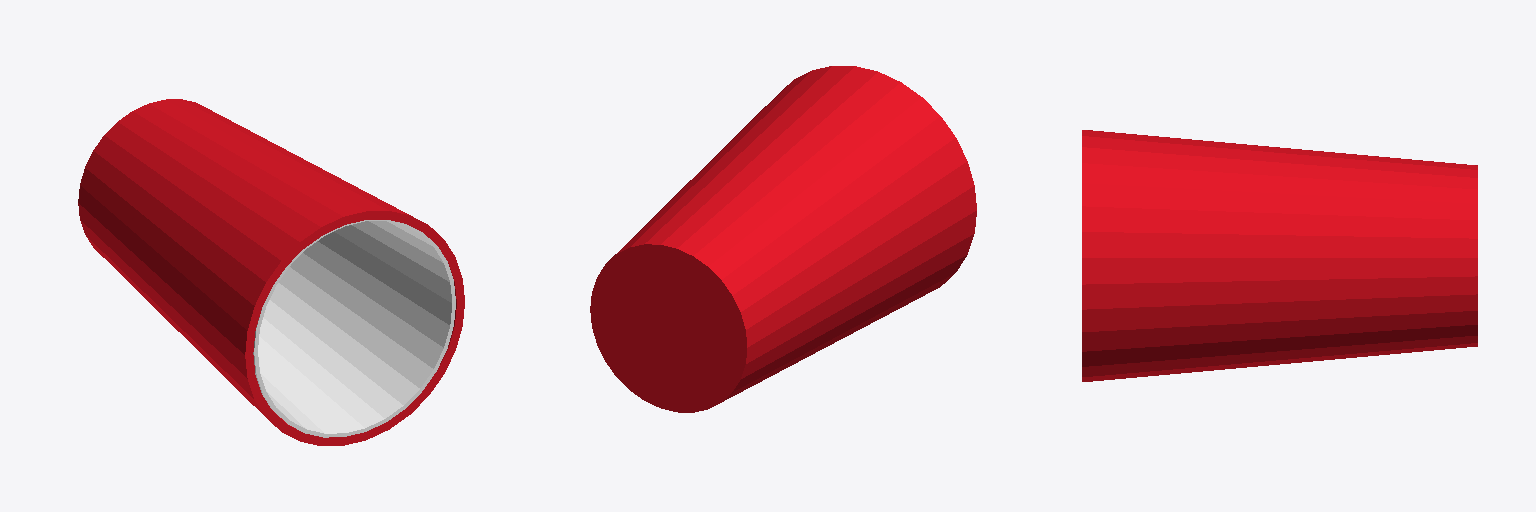
File: tinker.obj
The picture shows the model from 3 angles: view 1: azimuth 30°, elevation 25°; view 2: azimuth 150°, elevation 25°; view 3: azimuth 270°, elevation 25°; orthographic projection.
Visible parts, largest first — view 1: obj_0; view 2: obj_0; view 3: obj_0.
Part boxes in pixels (left/top/right/bottom): obj_0: left=78, top=99, right=464, bottom=445; obj_0: left=590, top=66, right=976, bottom=412; obj_0: left=1082, top=130, right=1477, bottom=381.
Size of the model in its own units: 65.34 by 64.99 by 102.